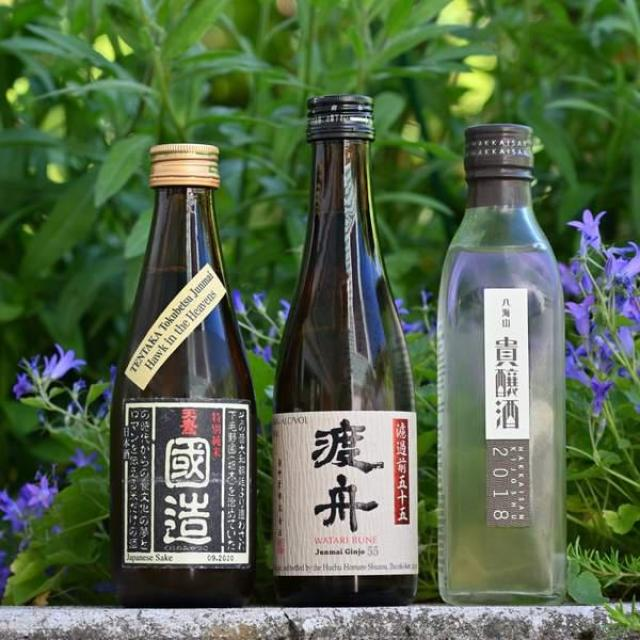non-organic waste: (263, 90, 426, 607), (107, 138, 263, 604), (436, 120, 571, 605)
